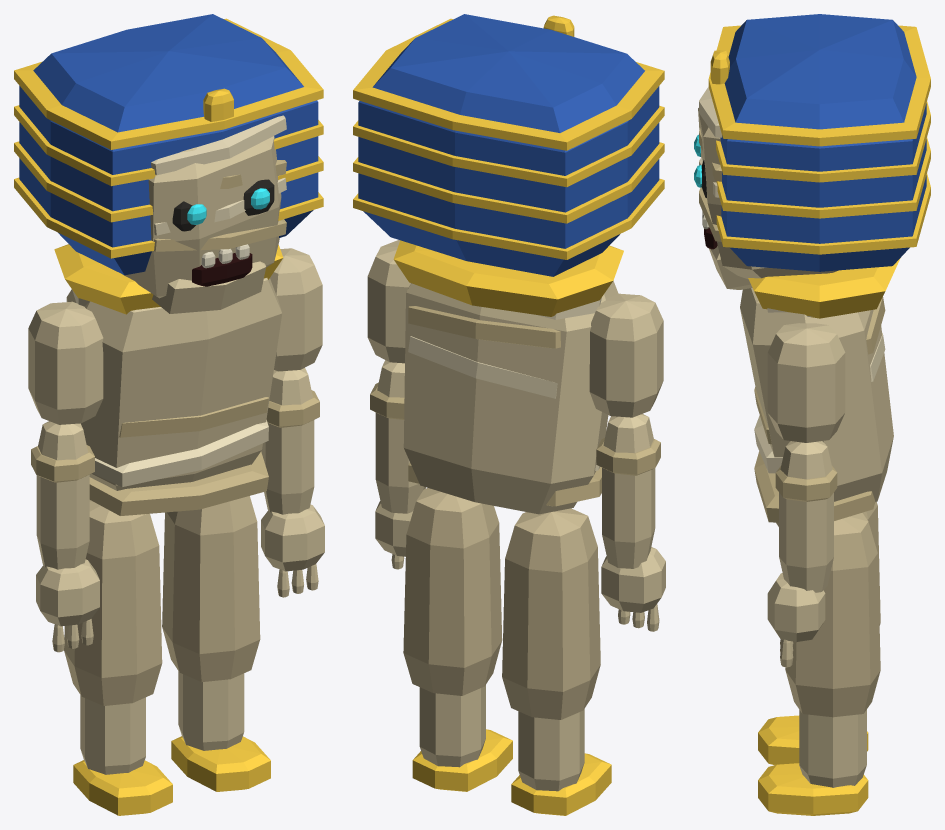
The model's file is mon-mummy-2.glb.
3 renders of one model, left to right at view 1: azimuth 30°, elevation 25°; view 2: azimuth 150°, elevation 25°; view 3: azimuth 270°, elevation 25°, orthographic.
Visible parts, largest first — view 1: head, torso, leg-left, leg-right, arm-right, arm-left; view 2: head, torso, leg-right, leg-left, arm-right, arm-left; view 3: head, leg-left, torso, arm-left, leg-right.
Boxes of the visible parts, bbox=[...] form: head: bbox=[14, 14, 323, 313]; torso: bbox=[54, 244, 283, 515]; leg-left: bbox=[162, 496, 270, 791]; leg-right: bbox=[64, 500, 172, 815]; arm-right: bbox=[28, 301, 103, 652]; arm-left: bbox=[261, 248, 324, 597]; head: bbox=[353, 14, 664, 276]; torso: bbox=[393, 240, 623, 514]; leg-right: bbox=[502, 508, 611, 815]; leg-left: bbox=[403, 488, 512, 791]; arm-right: bbox=[589, 293, 665, 631]; arm-left: bbox=[367, 240, 425, 569]; head: bbox=[694, 14, 930, 289]; leg-left: bbox=[758, 513, 880, 815]; torso: bbox=[740, 258, 900, 522]; arm-left: bbox=[767, 323, 845, 667]; leg-right: bbox=[758, 502, 880, 765].
Size of the model in its own units: 0.9745 by 2.43 by 0.7139.
